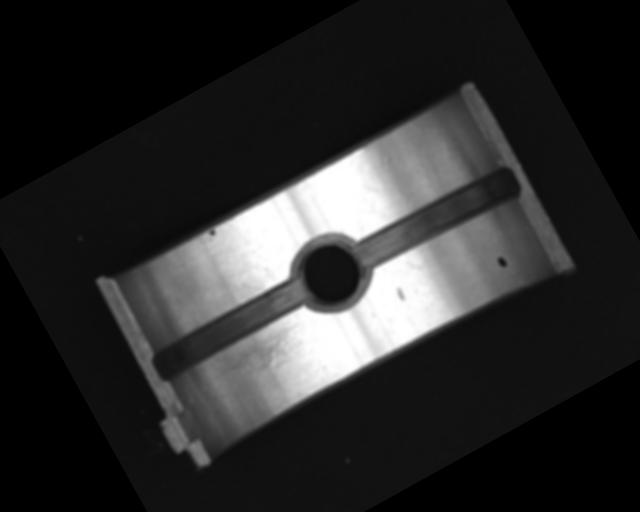blot: (495, 253, 508, 269), (205, 226, 217, 239)
bruise: (393, 285, 408, 303)
gap: (348, 158, 525, 281), (147, 271, 314, 385)
hole: (281, 221, 382, 325)
scratch: (206, 312, 317, 394)
